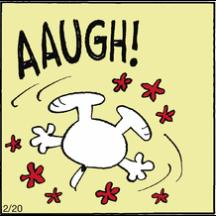snoopy: (29, 90, 155, 192)
